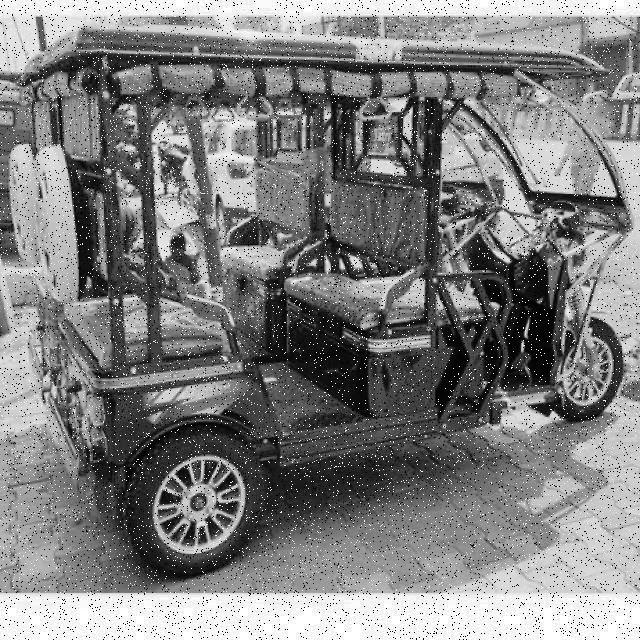Toto: (23, 23, 640, 580)
